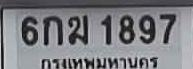1: (101, 14, 110, 44)
6: (21, 15, 37, 44)
7: (159, 13, 175, 43)
8: (118, 14, 134, 43)
9: (138, 14, 154, 43)
A01: (42, 15, 62, 45)
A06: (67, 14, 87, 44)
BKK: (38, 53, 162, 69)
